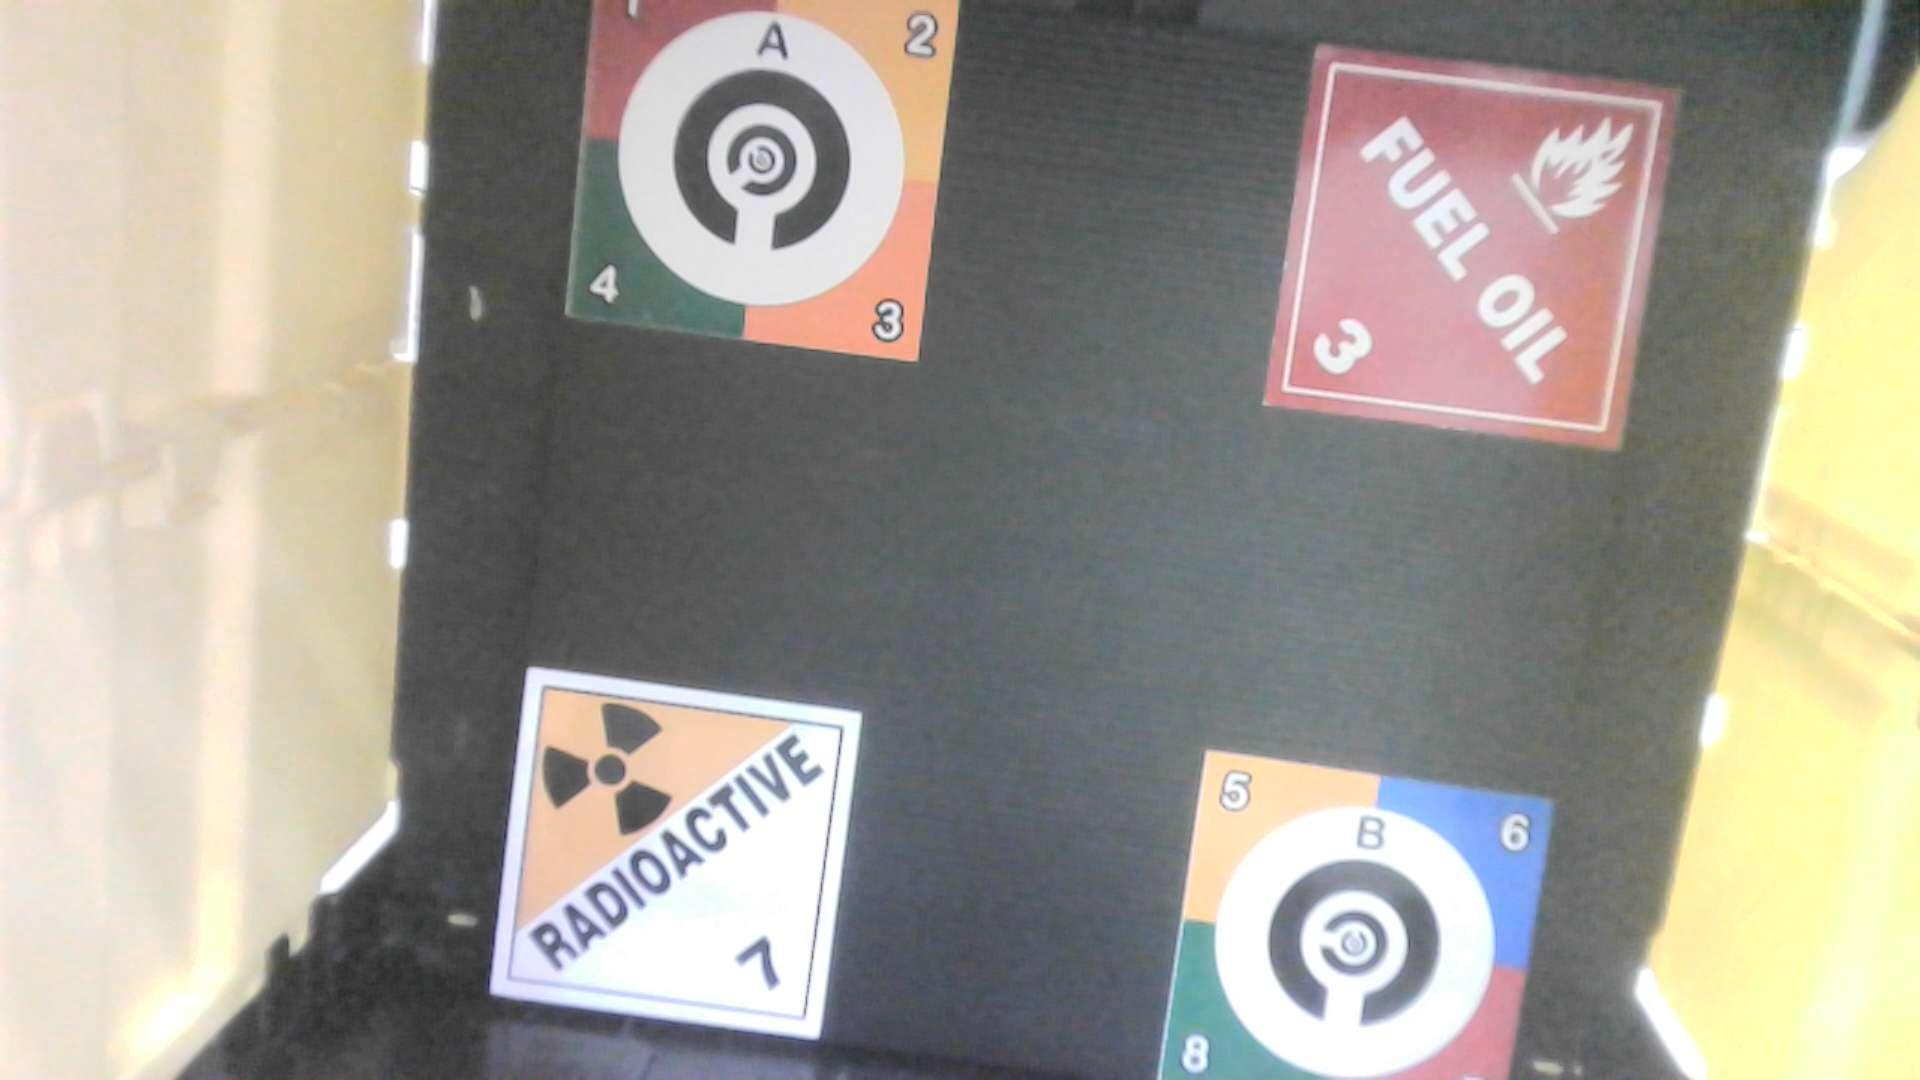flammable: (1265, 40, 1662, 467)
radioactive: (484, 665, 878, 1058)
